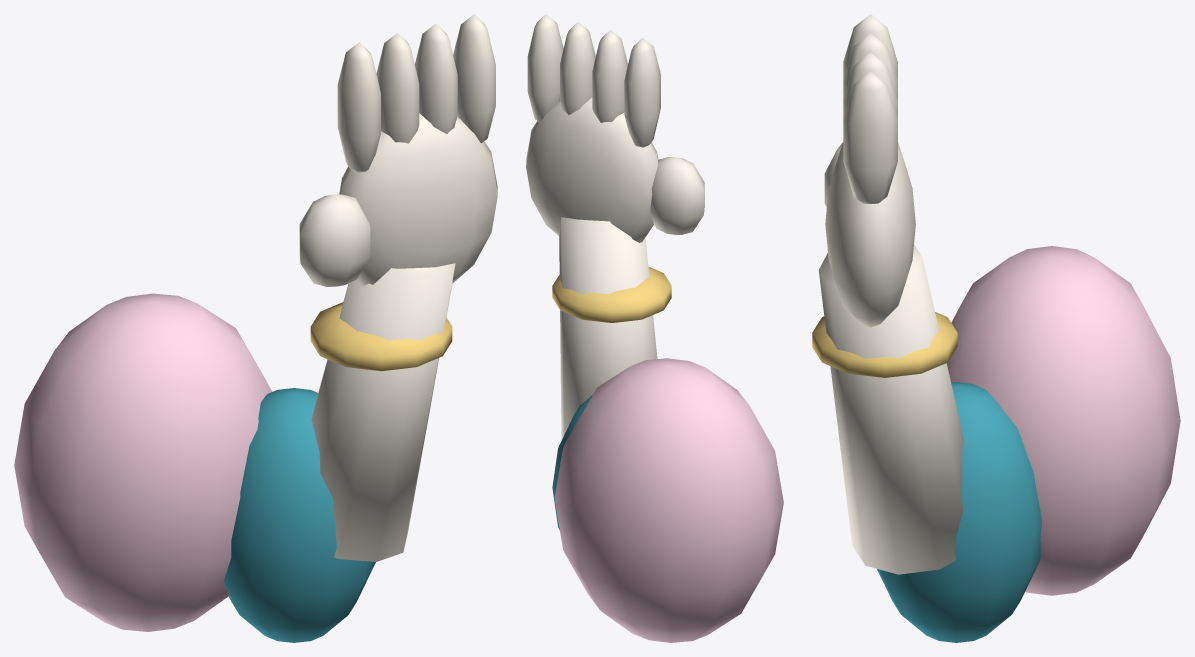
Rendered from pearococo_wing.glb.
3 views of the same model, side by side, from view 1: azimuth 30°, elevation 25°; view 2: azimuth 150°, elevation 25°; view 3: azimuth 270°, elevation 25° (orthographic). The views are drawn at different scales.
Visible parts, largest first — view 1: Wing_Blush, Wing_Glove, Wing_Teal, Wing_Gold; view 2: Wing_Blush, Wing_Glove, Wing_Gold, Wing_Teal; view 3: Wing_Blush, Wing_Glove, Wing_Teal, Wing_Gold.
Part boxes in pixels (bbox=[...]): Wing_Blush: bbox=[14, 293, 272, 631]; Wing_Glove: bbox=[299, 14, 497, 561]; Wing_Teal: bbox=[224, 388, 375, 642]; Wing_Gold: bbox=[310, 302, 452, 371]; Wing_Blush: bbox=[554, 358, 783, 642]; Wing_Glove: bbox=[526, 14, 704, 440]; Wing_Gold: bbox=[552, 266, 671, 322]; Wing_Teal: bbox=[552, 394, 592, 529]; Wing_Blush: bbox=[946, 246, 1180, 595]; Wing_Glove: bbox=[818, 14, 963, 574]; Wing_Teal: bbox=[877, 382, 1042, 642]; Wing_Gold: bbox=[812, 312, 957, 377].
Size of the model in its own units: 0.94 by 1.47 by 0.7722.
